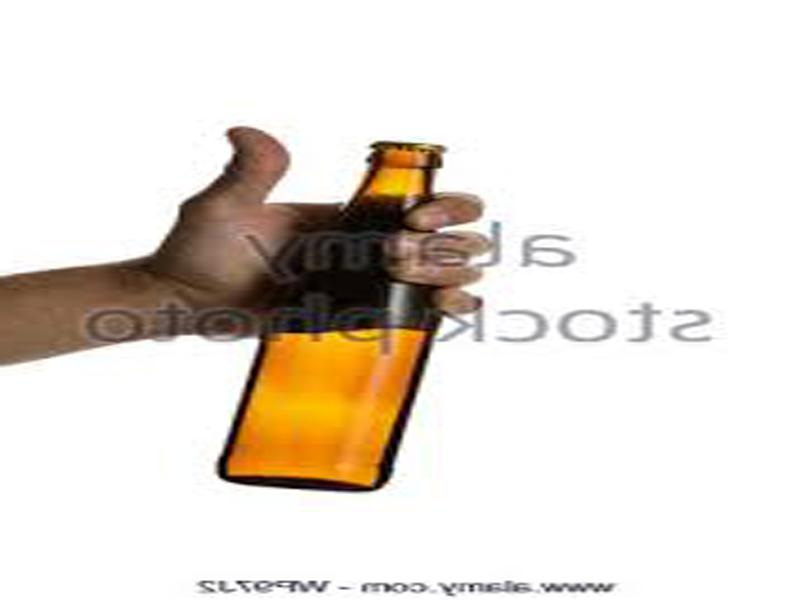Beer: (214, 145, 450, 489)
